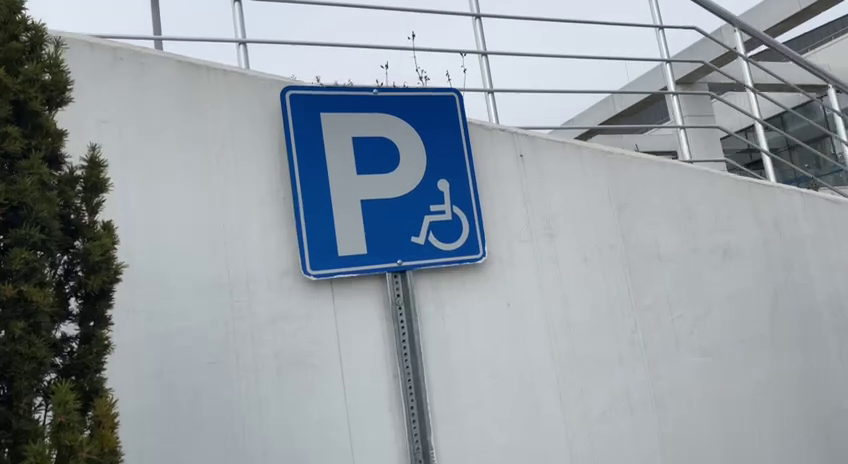parking: (280, 82, 489, 281)
